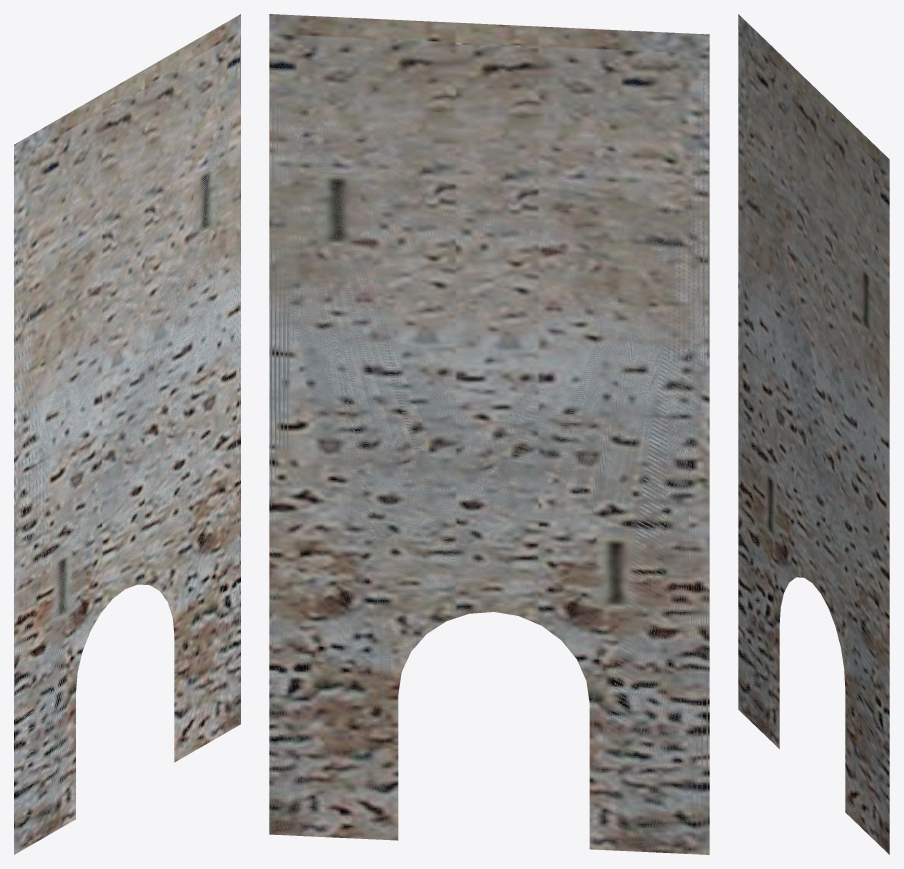
File: 西庸城堡652.dae
3 views of the same model, side by side, from view 1: azimuth 30°, elevation 25°; view 2: azimuth 150°, elevation 25°; view 3: azimuth 270°, elevation 25° (orthographic). The views are drawn at different scales.
Parts seen in each view (by area): view 1: SketchUp; view 2: SketchUp; view 3: SketchUp.
Boxes of the visible parts, x1,y1,x2,y2 form: SketchUp: (14, 14, 240, 854); SketchUp: (269, 14, 709, 854); SketchUp: (738, 14, 889, 854).
Size of the model in its own units: 259 by 114 by 579.
